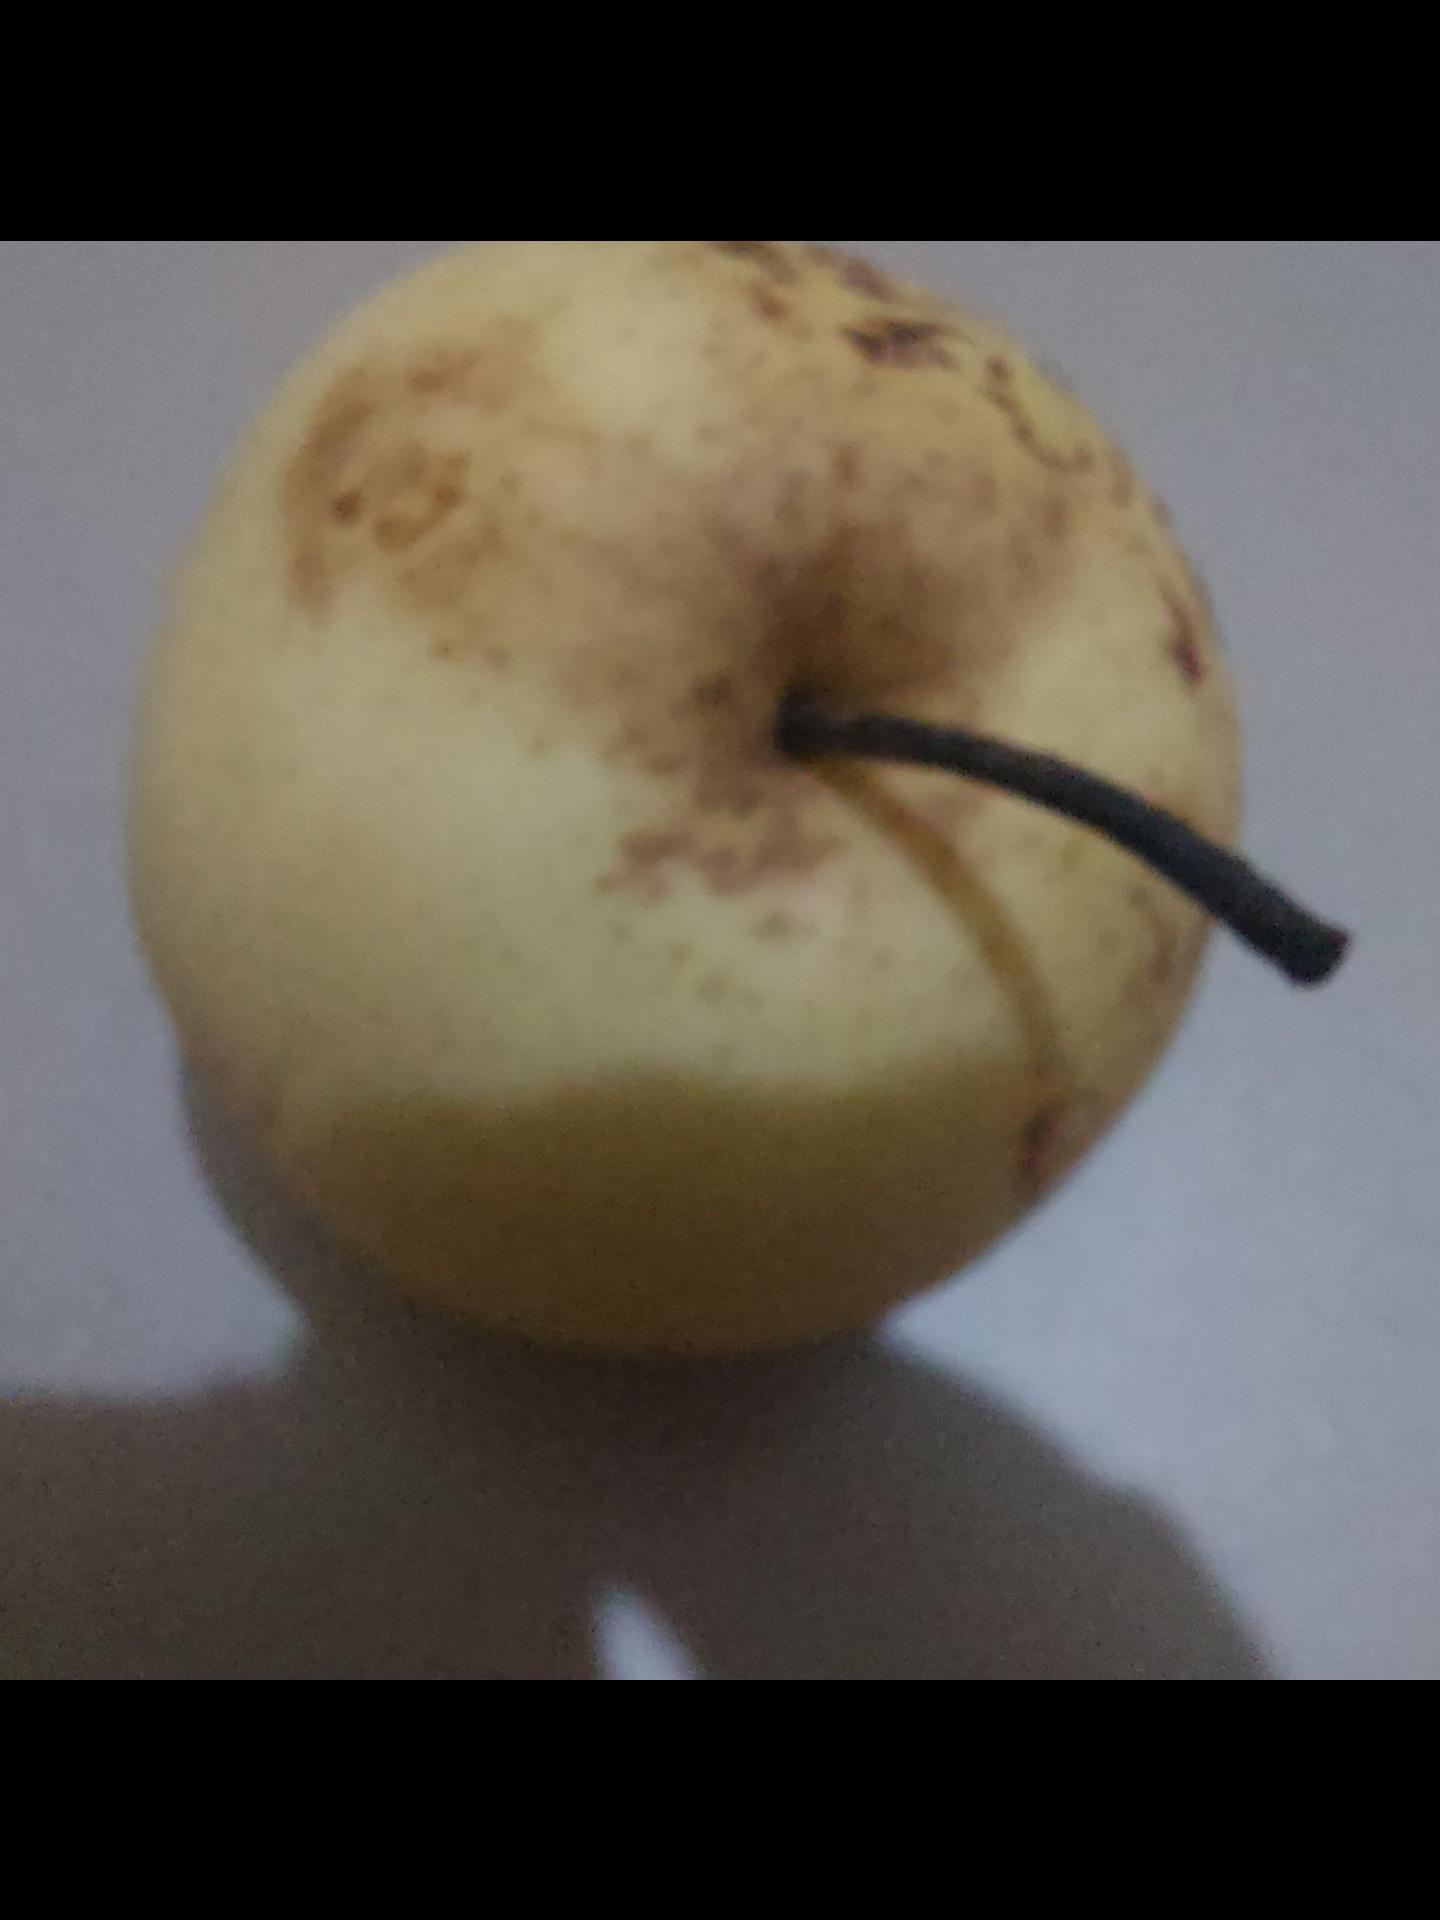Bad Pear: (116, 240, 1324, 1356)
